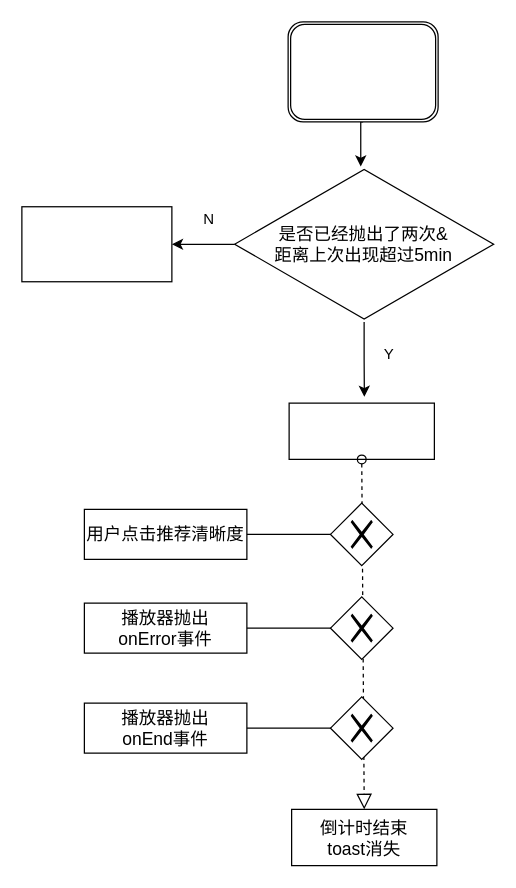
The diagram is 516 pixels wide and 888 high, and some of its shapes have lost their labels. Here are the shapes that lost their labels. From the top down, the box of each, then its label:
(287, 21, 438, 122): 播放器抛出down_definition 事件
(21, 206, 172, 282): 不处理
(288, 402, 434, 459): 开始倒计时8s
